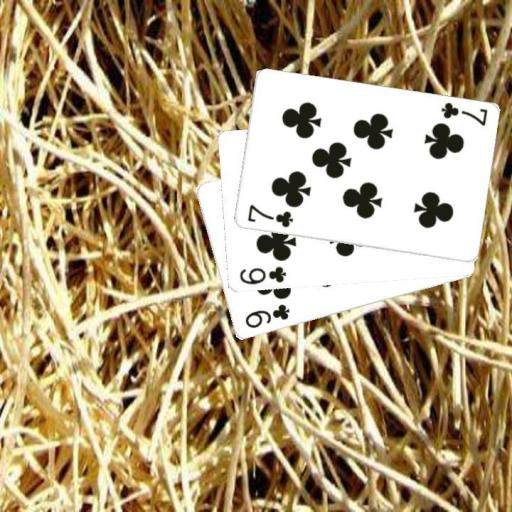6C: (236, 263, 287, 287)
7C: (244, 201, 294, 229), (438, 100, 489, 127)
9C: (241, 301, 292, 331)
